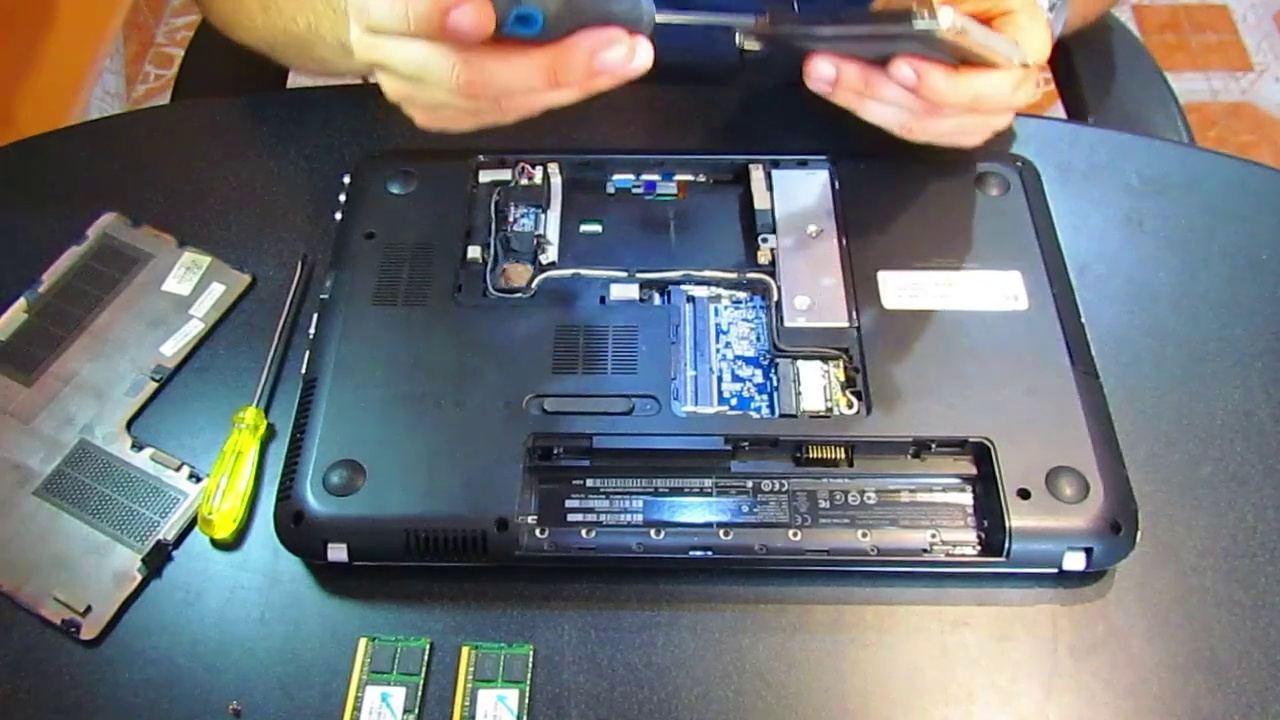screwdriver: (194, 249, 310, 544), (481, 2, 758, 46)
